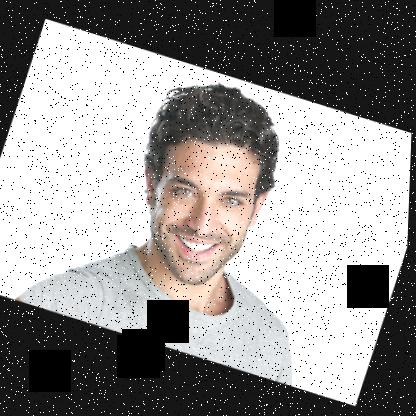Male: (114, 117, 282, 295)
